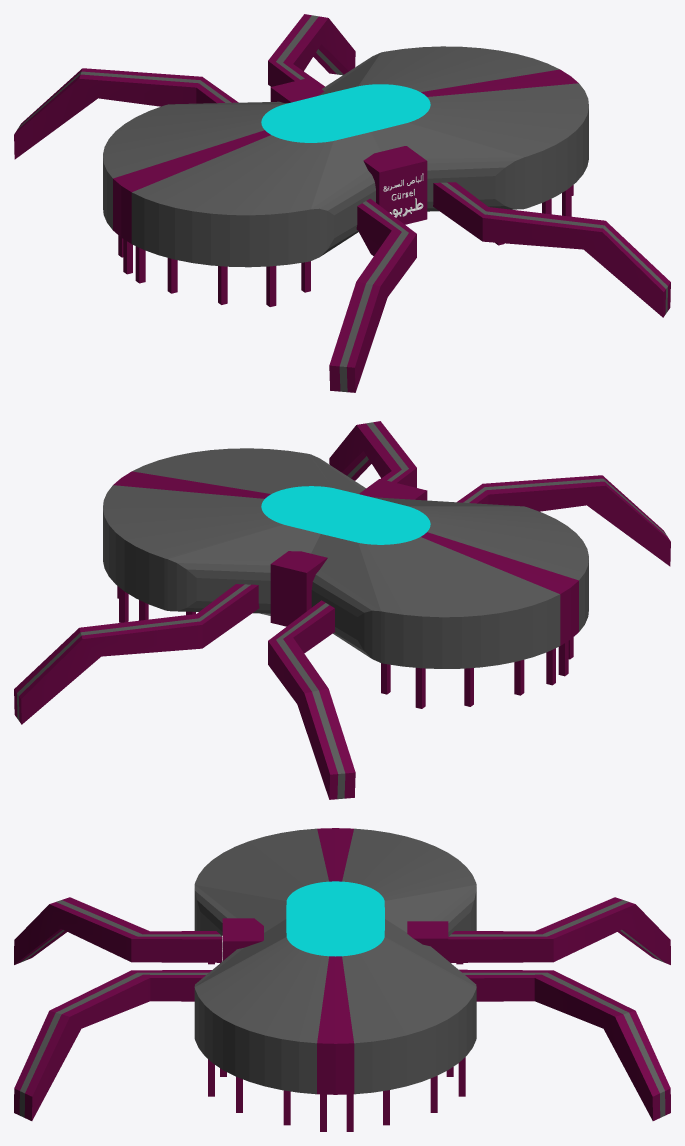
File: Station.fbx
The picture shows the model from 3 angles, top to bottom: view 1: azimuth 30°, elevation 25°; view 2: azimuth 150°, elevation 25°; view 3: azimuth 270°, elevation 25°; orthographic projection.
Visible parts, largest first — view 1: pCube5, polySurface3, polySurface2, polySurface5, polySurface4, pCube7, pCube13, pCube6; view 2: pCube5, polySurface4, polySurface5, polySurface2, polySurface3, pCube6, pCube12, pCube7, pCube15; view 3: pCube5, polySurface4, polySurface3, polySurface5, polySurface2, pCube7, pCube15, pCube6, pCube14.
Boxes of the visible parts, x1,y1,x2,y2 form: pCube5: (103, 46, 588, 267); polySurface3: (433, 182, 670, 317); polySurface2: (329, 198, 416, 392); polySurface5: (14, 68, 238, 159); polySurface4: (268, 14, 355, 88); pCube7: (363, 146, 427, 224); pCube13: (135, 246, 310, 306); pCube6: (270, 78, 324, 102); pCube5: (103, 448, 588, 668); polySurface4: (14, 584, 259, 724); polySurface5: (268, 600, 355, 799); polySurface2: (457, 475, 670, 566); polySurface3: (329, 421, 416, 487); pCube6: (270, 551, 327, 626); pCube12: (381, 648, 555, 708); pCube7: (359, 479, 427, 500); pCube15: (117, 586, 195, 622); pCube5: (194, 828, 476, 1094); polySurface4: (459, 969, 670, 1120); polySurface3: (14, 970, 211, 1120); polySurface5: (448, 897, 670, 964); polySurface2: (14, 897, 221, 964); pCube7: (222, 918, 263, 960); pCube15: (346, 1057, 465, 1131); pCube6: (407, 921, 448, 960); pCube14: (208, 1059, 326, 1131).
Size of the model in its own units: 39.99 by 10.44 by 51.45.
